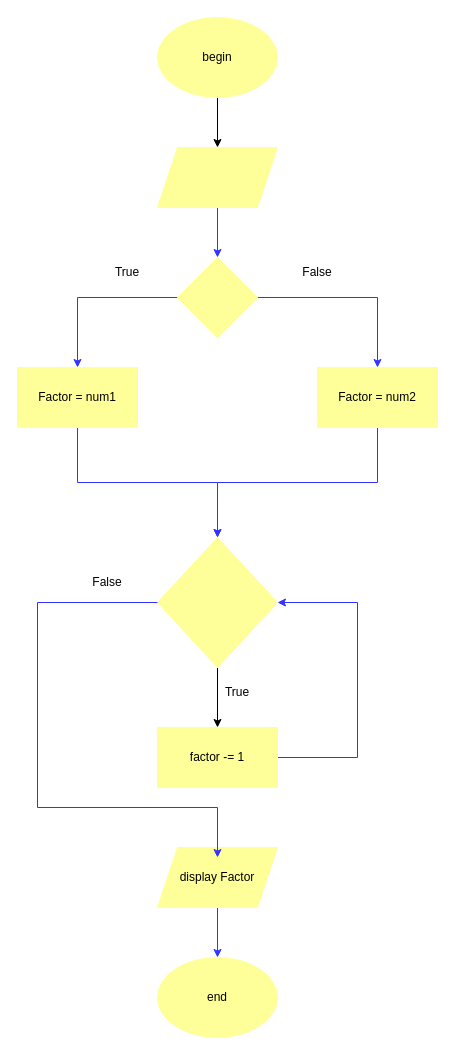
The diagram is 455 pixels wide and 1055 high, and some of its shapes have lost their labels. Each missing label, with the box of its shape:
get num1, num2: (156, 146, 278, 208)
num1 < num2: (176, 256, 258, 338)
while num1 mod Factor != 0 or num2 mod factor != 0: (156, 536, 278, 668)
